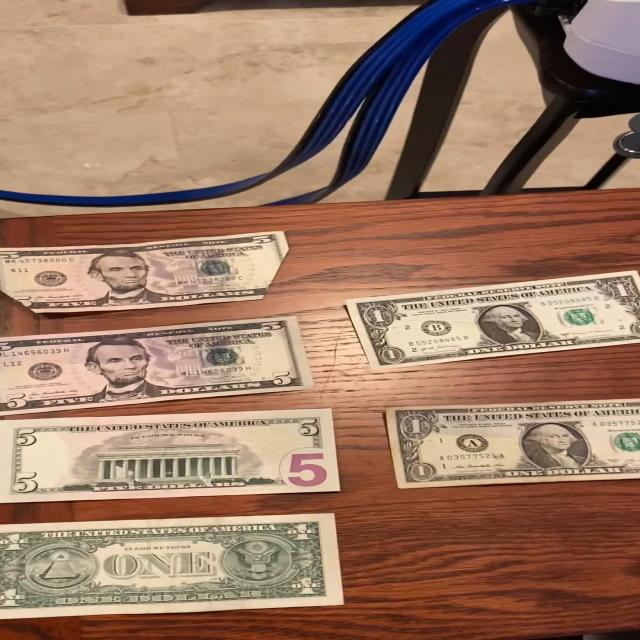1-Back: (2, 513, 353, 617)
1-Front: (336, 267, 640, 379), (373, 399, 639, 496)
5-Back: (1, 411, 347, 507)
5-Front: (0, 318, 309, 418), (0, 230, 287, 316)
